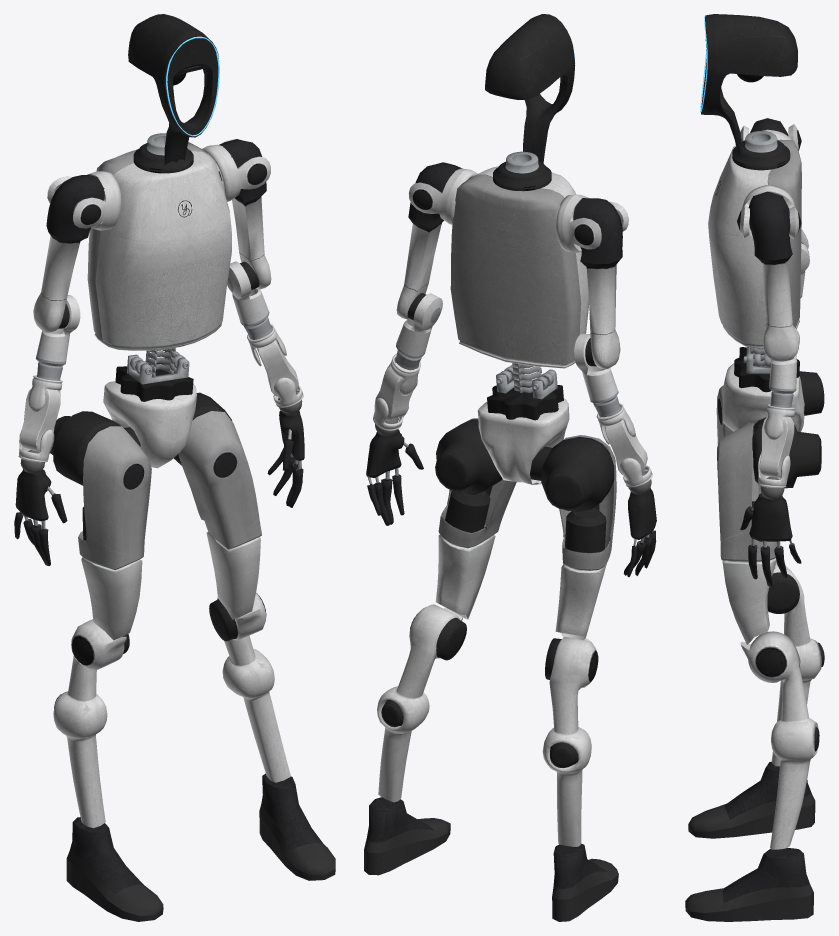
The model's file is robot-transformed.glb.
3 renders of one model, left to right at view 1: azimuth 30°, elevation 25°; view 2: azimuth 150°, elevation 25°; view 3: azimuth 270°, elevation 25°, orthographic. The views are drawn at different scales.
Visible parts, largest first — view 1: Object_4; view 2: Object_4; view 3: Object_4.
Boxes of the visible parts, x1=… form: Object_4: x1=14, y1=14, x2=335, y2=921; Object_4: x1=364, y1=14, x2=656, y2=921; Object_4: x1=685, y1=14, x2=824, y2=921.
Bounding box in the file's own units: 0.5102 × 1.5 × 0.2254.
Materials: 4 (1 with a texture image).
